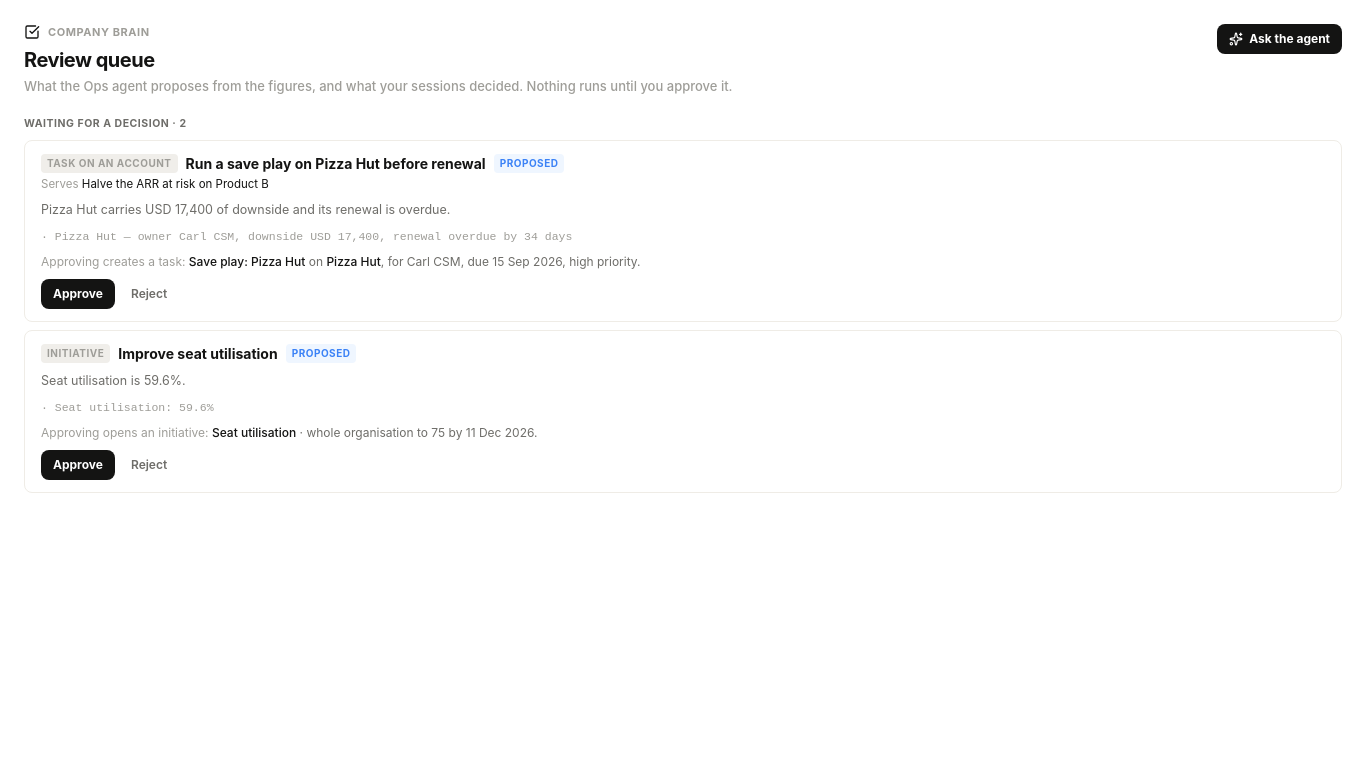
Scenario: ReviewQueuePage › asks the agent only on click and prepends what comes back
The image size is (1366, 768).
Expected: the heading "Waiting for a decision · 2" is shown, [24,117,187,130]
Click the button "Ask the agent": (1280, 39) [1217,24,1342,54]
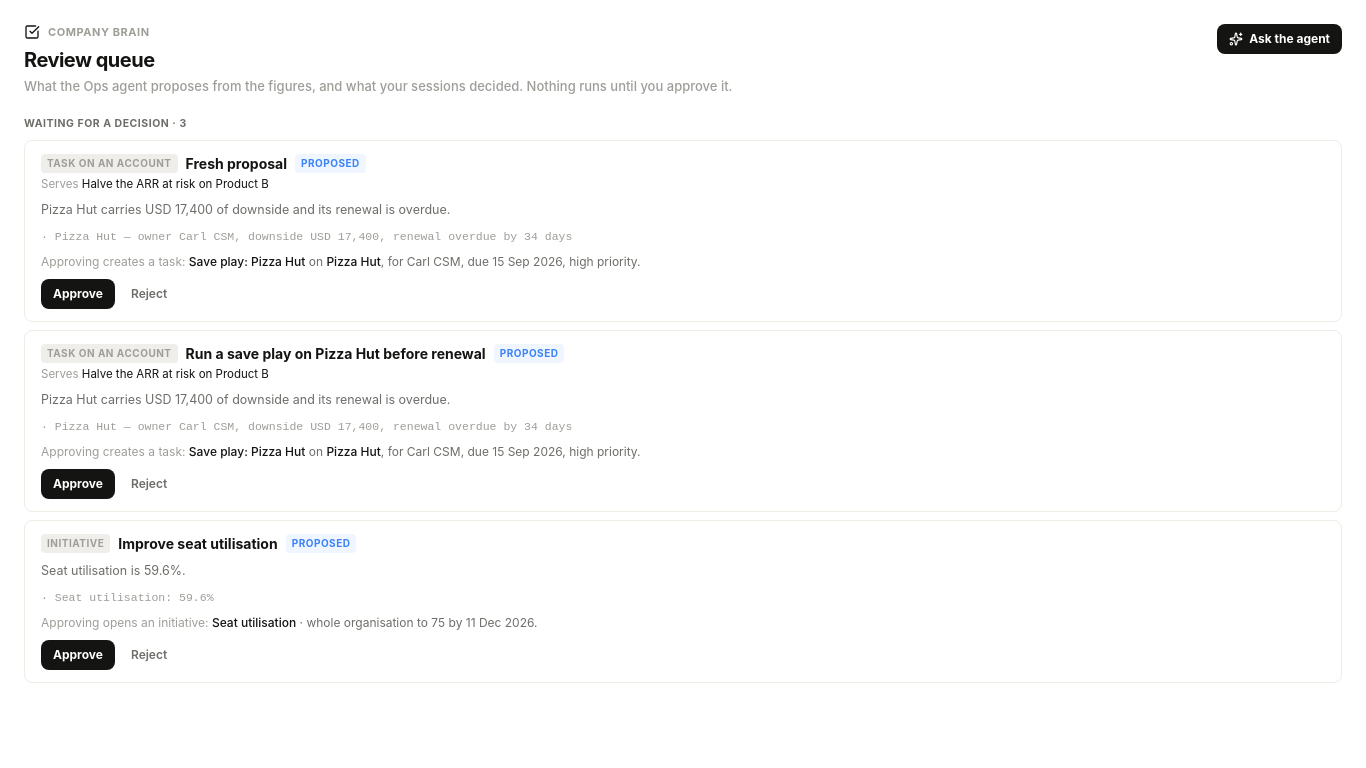
Expected: the heading "Fresh proposal" is shown, [186,153,287,174]
Expected: the heading "Waiting for a decision · 3" is shown, [24,117,187,130]
